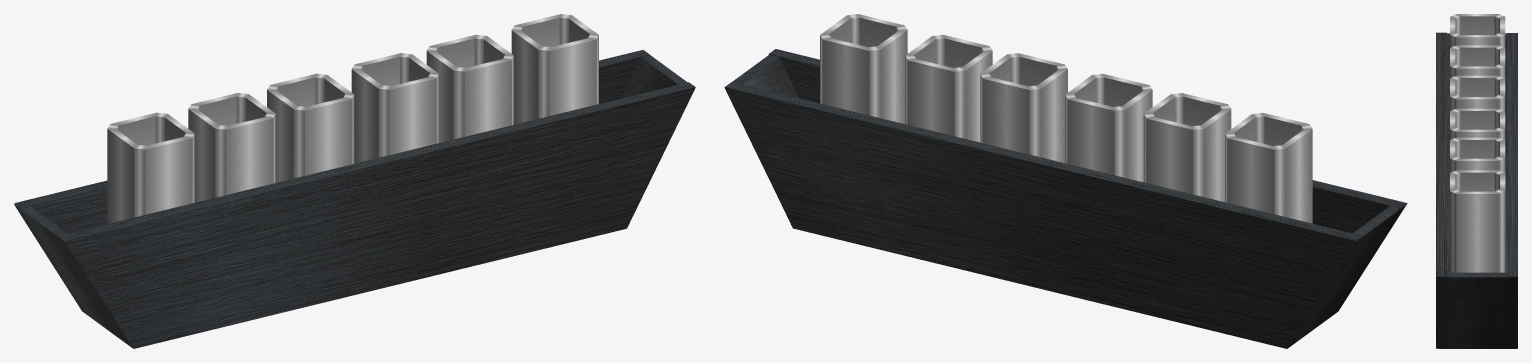
The model's file is CandleHolderRack6x1.fbx.
The picture shows the model from 3 angles, left to right: view 1: azimuth 30°, elevation 25°; view 2: azimuth 150°, elevation 25°; view 3: azimuth 270°, elevation 25°; orthographic projection. The views are drawn at different scales.
Visible parts, largest first — view 1: mid wall 2, Cube.003, Cube, Cube.005, Cube.002, Cube.001, Cube.004, mid wall, right panel.001, right panel; view 2: mid wall, Cube.003, Cube.005, Cube, Cube.002, Cube.001, Cube.004, mid wall 2, right panel.001, right panel; view 3: right panel, Cube.005, mid wall 2, mid wall, Cube.004, Cube.001, Cube.003, Cube.002, Cube, floor, right panel.001.
Part boxes in pixels (bbox=[...]): mid wall 2: bbox=[58, 82, 695, 348]; Cube.003: bbox=[107, 112, 194, 223]; Cube: bbox=[351, 53, 439, 163]; Cube.005: bbox=[511, 14, 598, 124]; Cube.002: bbox=[188, 93, 275, 202]; Cube.001: bbox=[267, 73, 354, 182]; Cube.004: bbox=[426, 34, 513, 142]; mid wall: bbox=[14, 50, 649, 233]; right panel.001: bbox=[14, 204, 132, 347]; right panel: bbox=[621, 55, 687, 98]; mid wall: bbox=[725, 82, 1361, 348]; Cube.003: bbox=[1225, 113, 1312, 223]; Cube.005: bbox=[820, 14, 907, 123]; Cube: bbox=[980, 53, 1067, 162]; Cube.002: bbox=[1143, 93, 1231, 201]; Cube.001: bbox=[1065, 74, 1152, 182]; Cube.004: bbox=[905, 34, 992, 142]; mid wall 2: bbox=[768, 49, 1407, 298]; right panel.001: bbox=[1288, 205, 1405, 347]; right panel: bbox=[724, 55, 798, 175]; right panel: bbox=[1438, 272, 1517, 348]; Cube.005: bbox=[1450, 170, 1505, 272]; mid wall 2: bbox=[1436, 32, 1446, 348]; mid wall: bbox=[1507, 33, 1517, 348]; Cube.004: bbox=[1450, 137, 1505, 172]; Cube.001: bbox=[1450, 75, 1505, 110]; Cube.003: bbox=[1450, 14, 1505, 47]; Cube.002: bbox=[1450, 45, 1505, 78]; Cube: bbox=[1450, 108, 1505, 139]; floor: bbox=[1438, 153, 1516, 348]; right panel.001: bbox=[1447, 33, 1506, 152].
Bounding box in the file's own units: 156 × 44.5 × 22.15.
8 materials, 8 textured.
